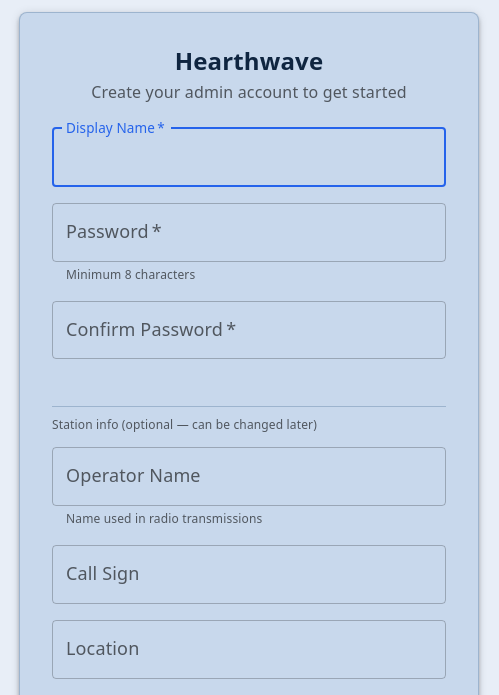
Test: SetupScreen › submit disabled until valid › button becomes enabled when all required fields are valid
The image size is (499, 695).
Type "Admin" into the field labelled "Display Name *". click: (249, 157)
box: x1=52 y1=128 x2=446 y2=187
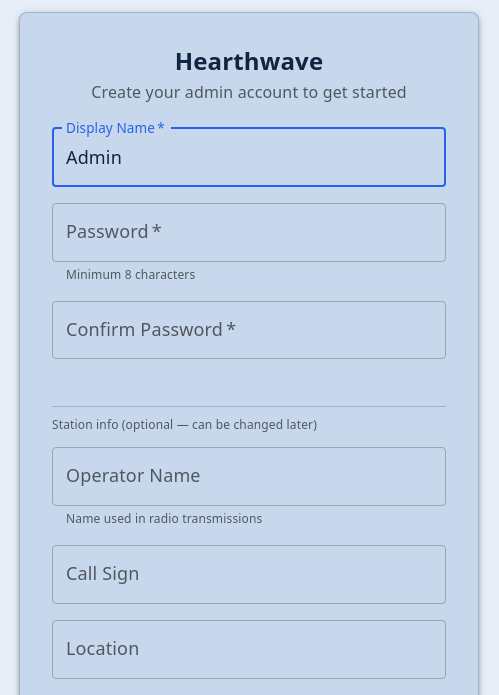
Type "password123" into the password field labelled "Password *". click: (249, 232)
box: x1=52 y1=203 x2=446 y2=262
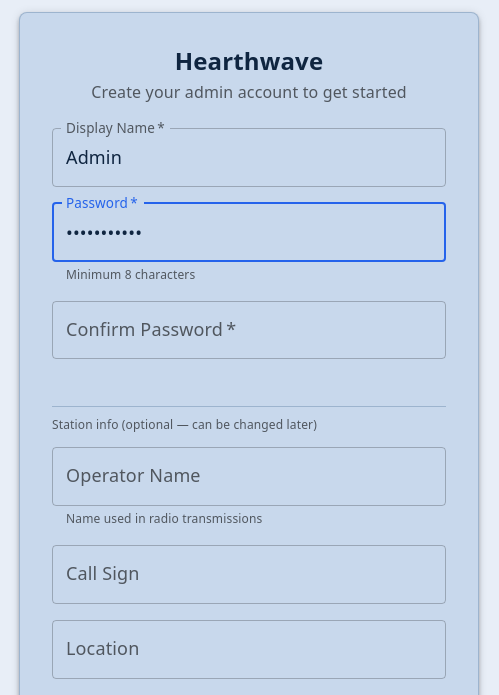
Type "password123" into the password field labelled "Confirm Password *". click: (249, 330)
box: x1=52 y1=300 x2=446 y2=359
(page scrolled)
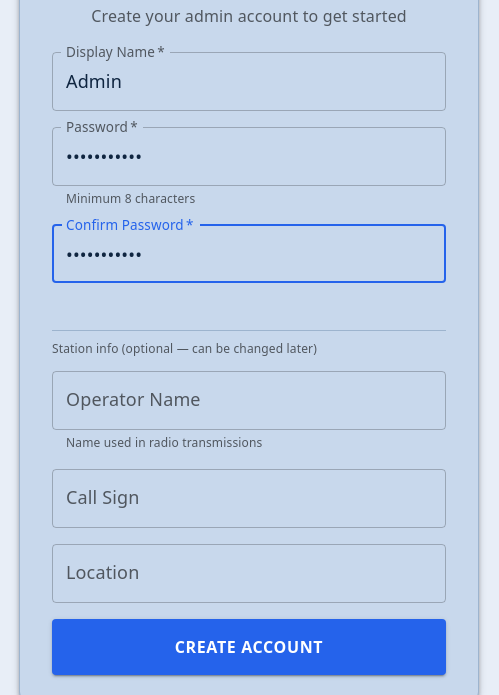
Check: the button "Create Account" is enabled, box x1=52 y1=619 x2=446 y2=675
